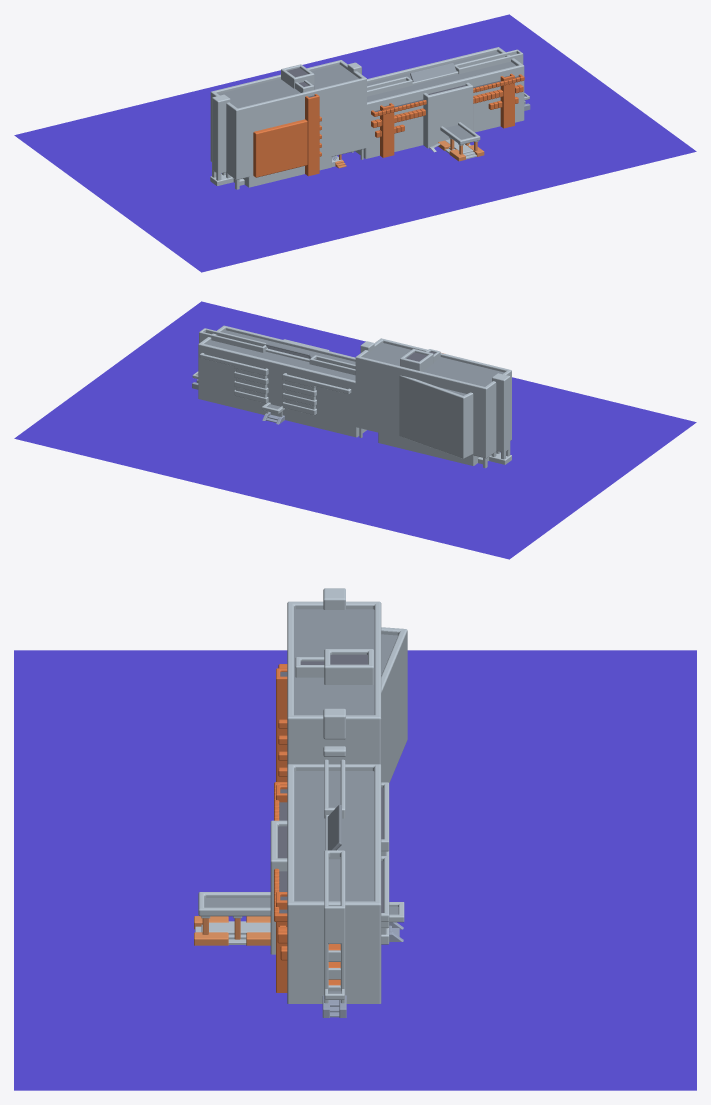
The model's file is aiu-3-correct.glb.
3 renders of one model, top to bottom at view 1: azimuth 30°, elevation 25°; view 2: azimuth 150°, elevation 25°; view 3: azimuth 270°, elevation 25°, orthographic. The views are drawn at different scales.
Visible parts, largest first — view 1: floor, Cube.752, Cube.1116, Cube.058, Cube.042, Cube.057, Cube.106, Cube.105, Cube.043, Cube.059, Cube.114, Cube.052 (+3 smaller); view 2: floor, Cube.752, Cube.1116, Cube.339, Cube.057, Cube.106, Cube.105, Cube.059, Cube.244, Cube.104, Cube.1099, Cube.300; view 3: floor, Cube.1116, Cube.106, Cube.752, Cube.057, Cube.339, Cube.059, Cube.104, Cube.308, Cube.043, Cube.042, Cube.052.
Part boxes in pixels (x1,y1,x2,y2): floor: (14,14,696,272); Cube.752: (210,60,366,187); Cube.1116: (355,47,524,158); Cube.058: (253,119,307,177); Cube.042: (423,82,473,148); Cube.057: (218,64,359,108); Cube.106: (367,51,516,102); Cube.105: (212,94,230,180); Cube.043: (305,94,319,176); Cube.059: (454,49,523,74); Cube.114: (380,103,394,157); Cube.052: (500,73,514,128); floor: (14,301,696,559); Cube.752: (355,338,511,465); Cube.1116: (198,325,366,437); Cube.339: (399,375,473,458); Cube.057: (363,343,504,386); Cube.106: (206,330,355,380); Cube.105: (492,373,510,459); Cube.059: (199,328,267,352); Cube.244: (309,355,355,375); Cube.104: (400,348,433,371); Cube.1099: (199,353,268,375); Cube.300: (282,373,351,394); floor: (14,650,696,1090); Cube.1116: (287,764,381,1003); Cube.106: (294,771,374,901); Cube.752: (287,601,381,764); Cube.057: (294,609,374,715); Cube.339: (381,627,407,782); Cube.059: (324,850,345,1003); Cube.104: (324,649,373,684); Cube.308: (198,892,270,916); Cube.043: (276,668,287,781); Cube.042: (270,820,287,954); Cube.052: (276,892,287,992).
Size of the model in its own units: 29.11 by 4.97 by 19.08.
